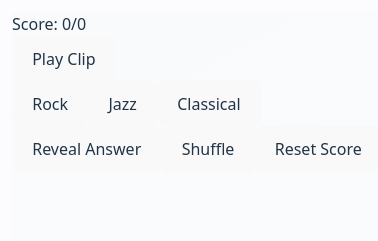
Test: GenreQuiz › reveals the answer when requested
The image size is (378, 241).
Click the button "Reveal Answer": (87, 149) [12,126,161,172]
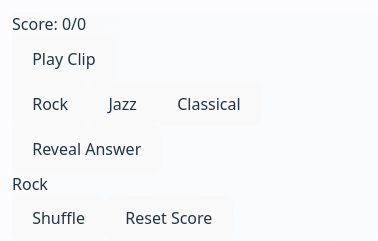
Expected: the text with test id "answer" reads "Rock", [12,173,48,195]
